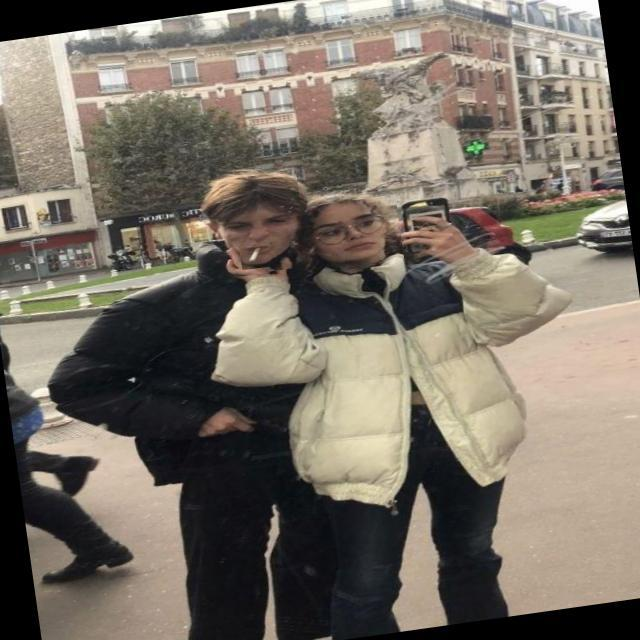cigarette: (239, 242, 273, 270)
